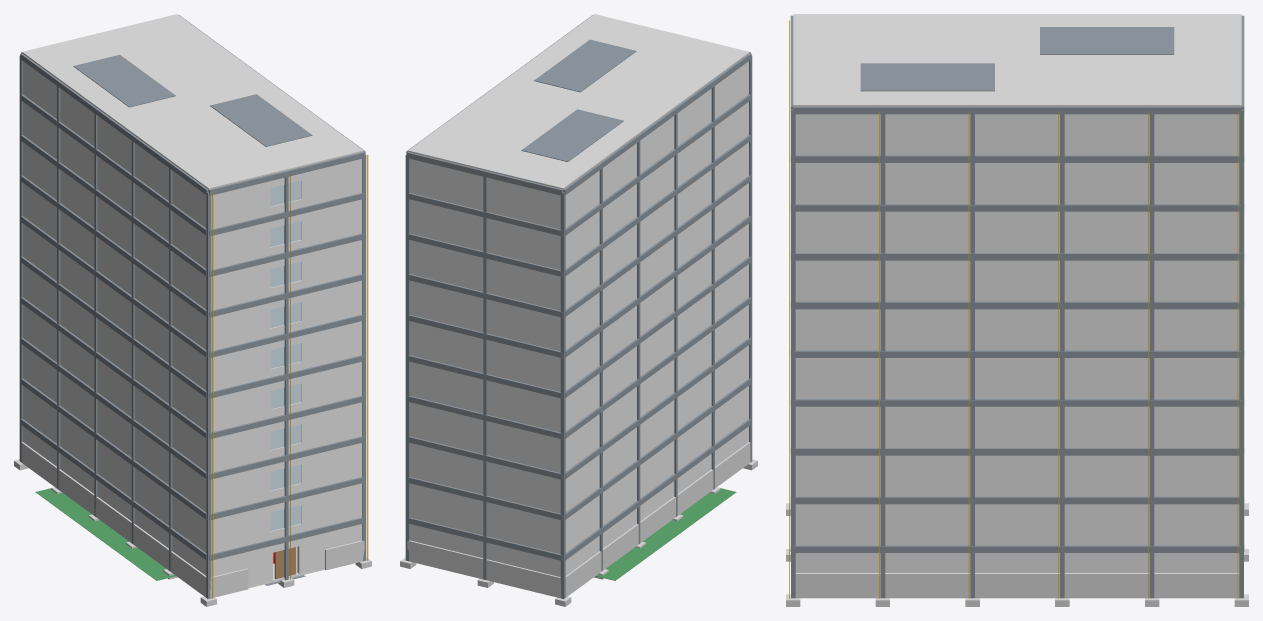
Rendered from generated_building_25.glb.
The picture shows the model from 3 angles, left to right: view 1: azimuth 30°, elevation 25°; view 2: azimuth 150°, elevation 25°; view 3: azimuth 270°, elevation 25°; orthographic projection. The views are drawn at different scales.
Parts seen in each view (by area): view 1: architectural, structural, landscape, windows, electrical, doors; view 2: architectural, structural, landscape; view 3: architectural, structural, landscape, electrical.
Part boxes in pixels (box(x1,y1,x2,y2)): architectural: box(22, 14, 363, 586); structural: box(14, 15, 371, 606); landscape: box(21, 442, 364, 598); windows: box(270, 181, 301, 530); electrical: box(212, 155, 368, 598); doors: box(274, 547, 296, 579); architectural: box(408, 14, 749, 576); structural: box(400, 15, 757, 606); landscape: box(407, 442, 750, 598); architectural: box(793, 14, 1241, 572); structural: box(786, 15, 1248, 606); landscape: box(795, 573, 1239, 598); electrical: box(789, 20, 1238, 598).
Bounding box in the file's own units: 13.9 × 30.74 × 25.8.
